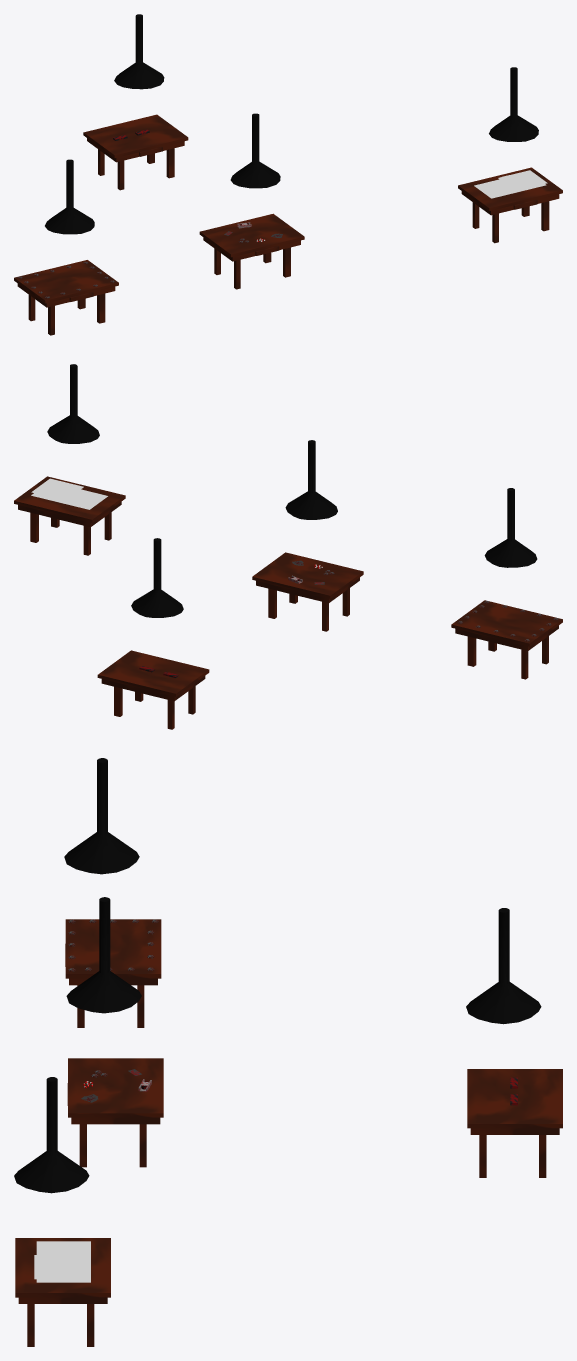
The model's file is escenariodeterrordemenu.fbx.
The picture shows the model from 3 angles, top to bottom: view 1: azimuth 30°, elevation 25°; view 2: azimuth 150°, elevation 25°; view 3: azimuth 270°, elevation 25°; orthographic projection. The views are drawn at different scales.
Parts seen in each view (by area): view 1: Box003, Box006, Box001, Box007, w, w002, w001, w003, Plane006, Plane007; view 2: Box003, Box006, Box001, Box007, w001, w, w002, w003, Plane006, Plane007; view 3: Box003, Box001, Box006, Box007, w, w001, w003, w002, Plane007, Plane006.
Boxes of the visible parts, left/top/right/bottom form: Box003: left=83, top=114, right=188, bottom=190; Box006: left=14, top=260, right=118, bottom=335; Box001: left=199, top=213, right=304, bottom=289; Box007: left=458, top=167, right=562, bottom=243; w: left=230, top=113, right=280, bottom=188; w002: left=45, top=159, right=94, bottom=234; w001: left=114, top=14, right=164, bottom=89; w003: left=489, top=67, right=538, bottom=141; Plane006: left=474, top=179, right=546, bottom=198; Plane007: left=498, top=170, right=547, bottom=190; Box003: left=97, top=650, right=209, bottom=729; Box006: left=451, top=600, right=562, bottom=679; Box001: left=252, top=552, right=363, bottom=631; Box007: left=14, top=476, right=125, bottom=555; w001: left=131, top=538, right=183, bottom=617; w: left=285, top=440, right=337, bottom=519; w002: left=484, top=488, right=537, bottom=567; w003: left=47, top=364, right=99, bottom=443; Plane006: left=31, top=489, right=107, bottom=509; Plane007: left=31, top=478, right=83, bottom=500; Box003: left=467, top=1069, right=562, bottom=1177; Box001: left=67, top=1058, right=163, bottom=1167; Box006: left=65, top=919, right=161, bottom=1027; Box007: left=15, top=1238, right=110, bottom=1346; w: left=66, top=897, right=141, bottom=1013; w001: left=466, top=908, right=541, bottom=1024; w003: left=14, top=1077, right=89, bottom=1193; w002: left=64, top=758, right=139, bottom=874; Plane007: left=34, top=1255, right=88, bottom=1279; Plane006: left=36, top=1241, right=90, bottom=1282.
Bounding box in the file's own units: 3000 × 926 × 1862.
